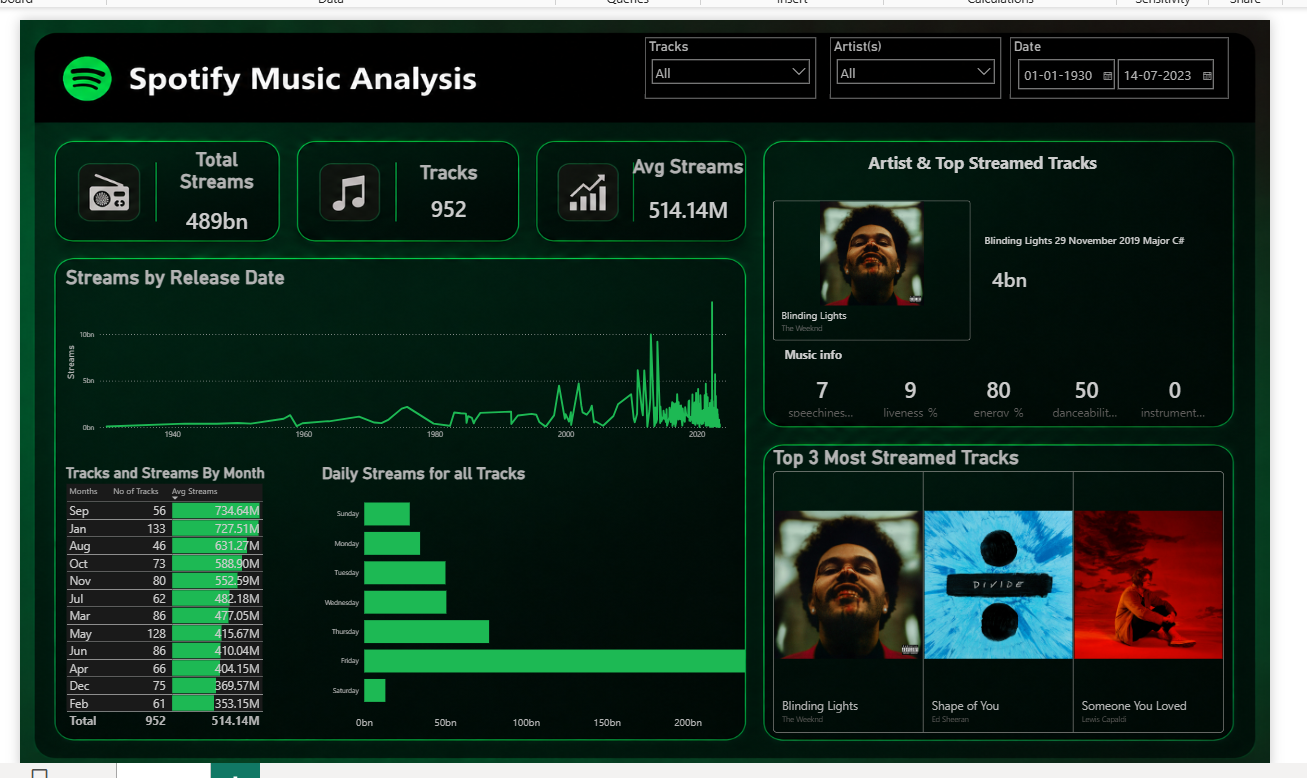

Layout of this report page (visuals, bound fields, positions):
{"tool":"powerbi","page":{"name":"Page 1","canvas":[2000,1200],"ordinal":0},"visuals":[{"type":"cardVisual","title":"Total Streams","fields":{"Data":["Sum(Spotify Dataset.streams)"]},"box":[214,204,202,160],"z":0},{"type":"cardVisual","title":"Tracks","fields":{"Data":["CountNonNull(Spotify Dataset.track_name)"]},"box":[582,226,208,114],"z":1000},{"type":"cardVisual","title":"Avg Streams","fields":{"Data":["Avg(Spotify Dataset.streams)"]},"box":[966,216,206,136],"z":2000},{"type":"lineChart","title":"Streams by Release Date","fields":{"Category":["Calendar.Date.Variation.Date Hierarchy.Year","Calendar.Date.Variation.Date Hierarchy.Quarter","Calendar.Date.Variation.Date Hierarchy.Month","Calendar.Date.Variation.Date Hierarchy.Day"],"Y":["Sum(Spotify Dataset.streams)"]},"box":[68,394,1070,288],"z":3000},{"type":"tableEx","title":"Tracks and Streams By Month","fields":{"Values":["Calendar.MonthName","Spotify Dataset.track_name","Avg(Spotify Dataset.streams)"]},"box":[68,710,410,436],"z":4000},{"type":"clusteredBarChart","title":"Daily Streams for all Tracks","fields":{"Y":["Sum(Spotify Dataset.streams)"],"Category":["Calendar.DayName"]},"box":[478,710,722,436],"z":5000},{"type":"textbox","box":[1352,204,436,80],"z":6000},{"type":"advancedSlicerVisual","fields":{"Values":["Spotify Dataset.track_name"],"Label":["Sum(Spotify Dataset.streams)"]},"box":[1200,284,326,234],"z":7000},{"type":"cardVisual","fields":{"Rows":["Spotify Dataset.track_name","Spotify Dataset.date","Spotify Dataset.mode","Spotify Dataset.key"],"Data":["Sum(Spotify Dataset.streams)"]},"box":[1526,306,372,174],"z":8000},{"type":"cardVisual","fields":{"Data":["Sum(Spotify Dataset.speechiness_%)","Sum(Spotify Dataset.liveness_%)","Sum(Spotify Dataset.energy_%)","Sum(Spotify Dataset.danceability_%)","Sum(Spotify Dataset.instrumentalness_%)"]},"box":[1200,554,732,98],"z":9000},{"type":"textbox","box":[1218,518,400,36],"z":10000},{"type":"advancedSlicerVisual","title":"Top 3 Most Streamed Tracks","fields":{"Values":["Spotify Dataset.track_name"],"Label":["Sum(Spotify Dataset.streams)"]},"box":[1200,682,732,464],"z":11000},{"type":"slicer","title":"Tracks","fields":{"Values":["Spotify Dataset.track_name"]},"box":[1000,27.8,273.8,97.2],"z":12000},{"type":"slicer","title":"Date","fields":{"Values":["Calendar.Date"]},"box":[1583.3,27.8,349.2,97.2],"z":13000},{"type":"slicer","title":"Artist(s)","fields":{"Values":["Spotify Dataset.artist(s)_name"]},"box":[1295.6,27.8,273.8,97.2],"z":14000}]}

Visuals, with their boxes on the page's 2000x1200 design canvas (x1, y1, x2, y2). These are canvas units, not pixel positions in the 1307x778 screenshot, which may show the page scaled, cropped or inside an application window:
"Total Streams" cardVisual: locate(214, 204, 416, 364)
"Tracks" cardVisual: locate(582, 226, 790, 340)
"Avg Streams" cardVisual: locate(966, 216, 1172, 352)
"Streams by Release Date" lineChart: locate(68, 394, 1138, 682)
"Tracks and Streams By Month" tableEx: locate(68, 710, 478, 1146)
"Daily Streams for all Tracks" clusteredBarChart: locate(478, 710, 1200, 1146)
textbox: locate(1352, 204, 1788, 284)
advancedSlicerVisual - Spotify Dataset.track_name x Sum(Spotify Dataset.streams): locate(1200, 284, 1526, 518)
cardVisual - Spotify Dataset.track_name x Spotify Dataset.date: locate(1526, 306, 1898, 480)
cardVisual - Sum(Spotify Dataset.speechiness_%) x Sum(Spotify Dataset.liveness_%): locate(1200, 554, 1932, 652)
textbox: locate(1218, 518, 1618, 554)
"Top 3 Most Streamed Tracks" advancedSlicerVisual: locate(1200, 682, 1932, 1146)
"Tracks" slicer: locate(1000, 28, 1274, 125)
"Date" slicer: locate(1583, 28, 1932, 125)
"Artist(s)" slicer: locate(1296, 28, 1569, 125)
